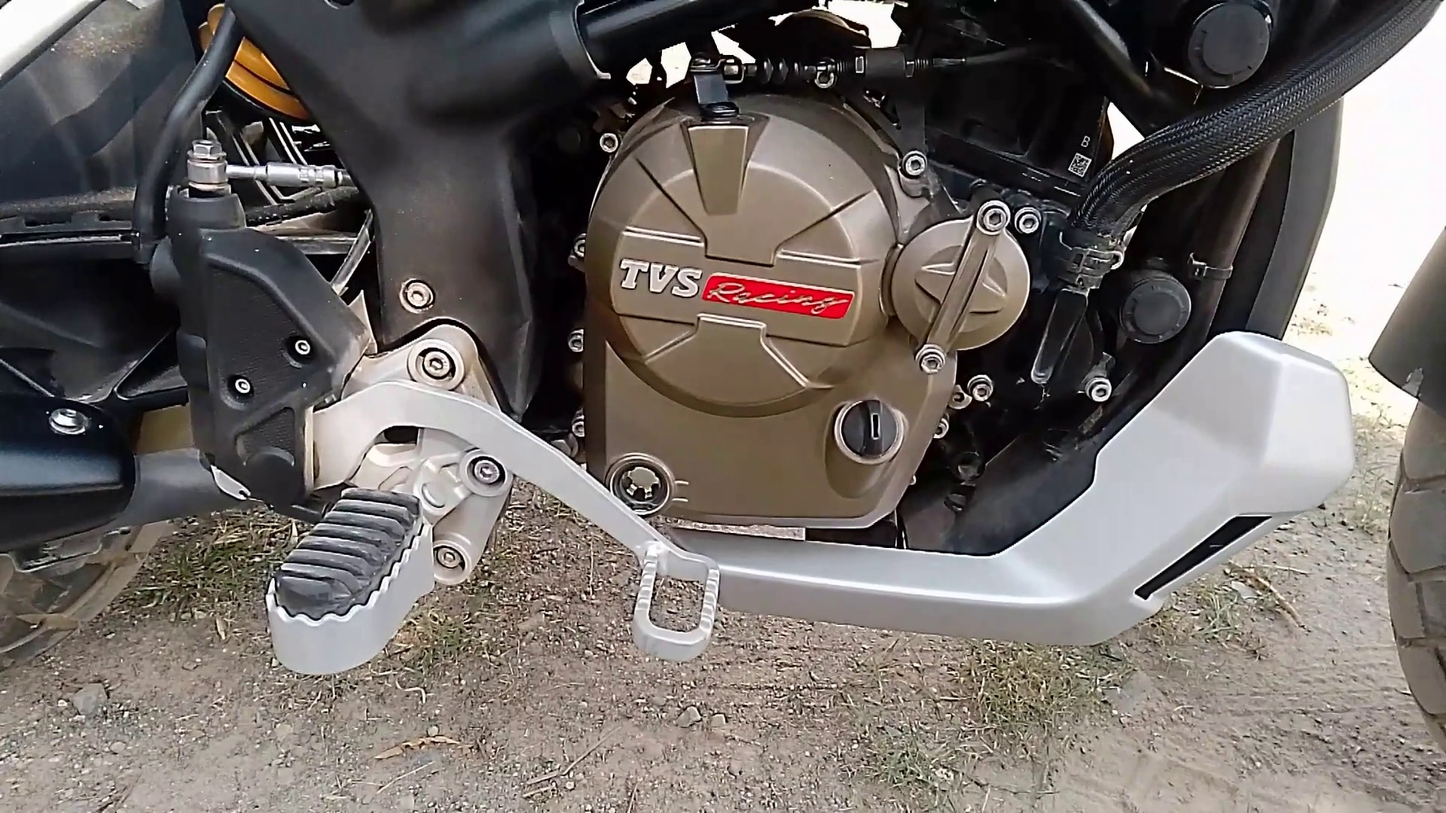engine: (548, 49, 1069, 565)
oil_cap: (825, 380, 915, 484)
oil_marker: (593, 438, 706, 527)
